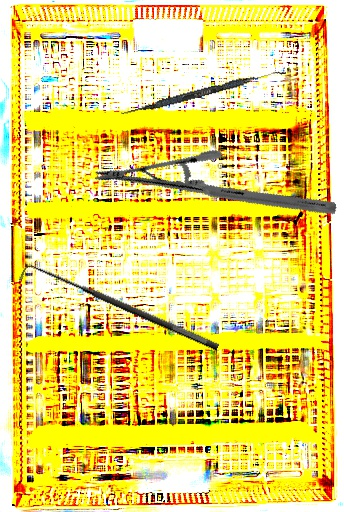Hook Surgical: (17, 256, 221, 366)
Needle Holder: (92, 93, 339, 290)
Spatula Surgical: (120, 64, 286, 121)
